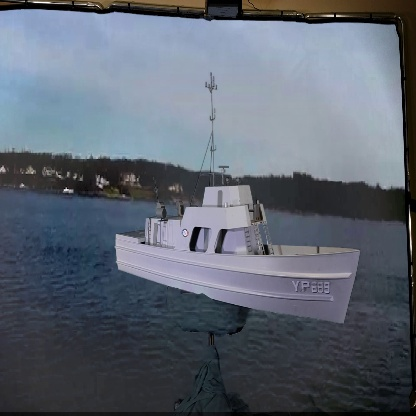YP689: (113, 67, 361, 326)
